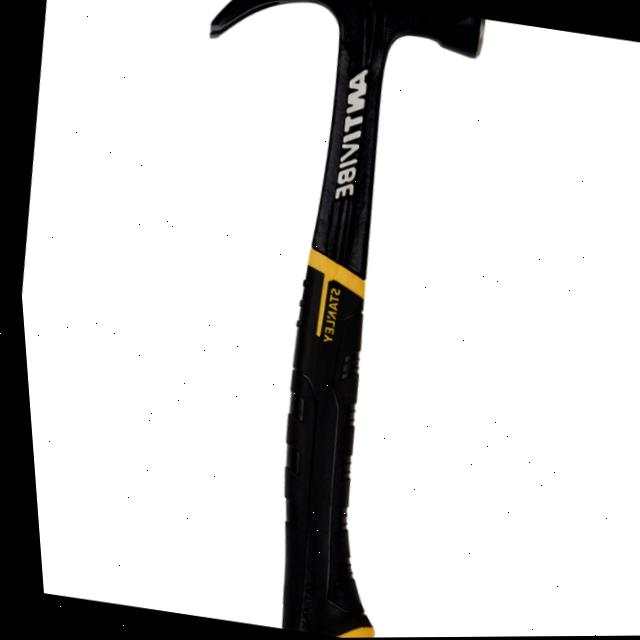hammer: (103, 0, 528, 639)
